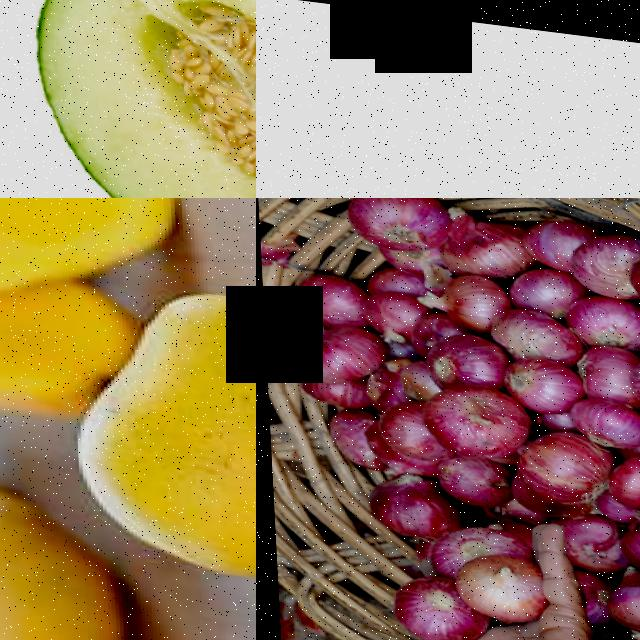mango: (62, 267, 256, 589)
melon: (7, 0, 256, 198)
onion: (420, 378, 525, 458), (509, 416, 605, 499), (451, 548, 545, 619), (361, 468, 453, 534), (292, 319, 381, 385), (385, 571, 464, 640), (567, 218, 640, 290), (345, 198, 448, 249), (421, 324, 503, 386), (483, 299, 576, 353), (287, 268, 363, 322), (505, 350, 578, 405), (566, 385, 640, 438), (563, 288, 640, 338), (505, 258, 576, 311), (440, 263, 504, 321), (575, 332, 631, 390)
